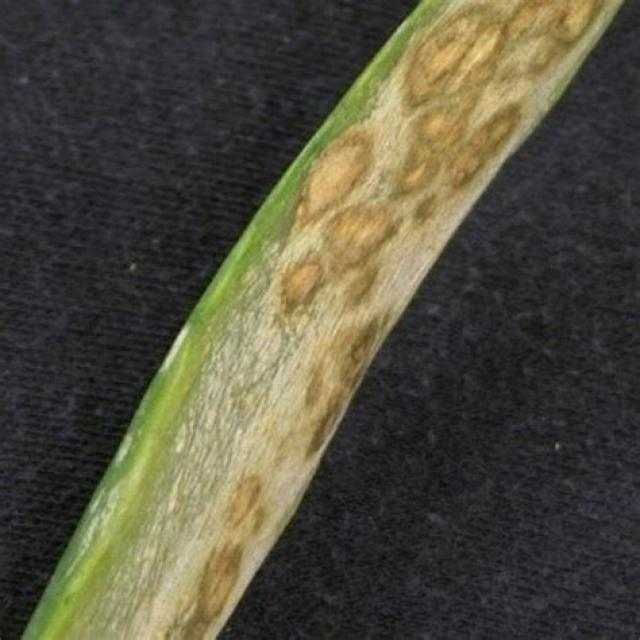blight: (388, 13, 514, 170), (252, 240, 368, 392)
